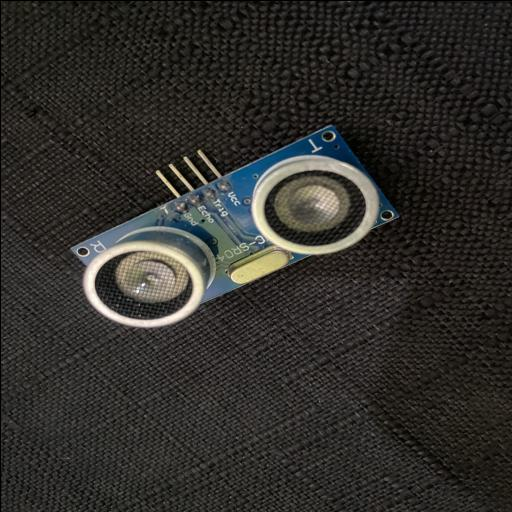Ultrasonic Sensor: (69, 122, 399, 328)
